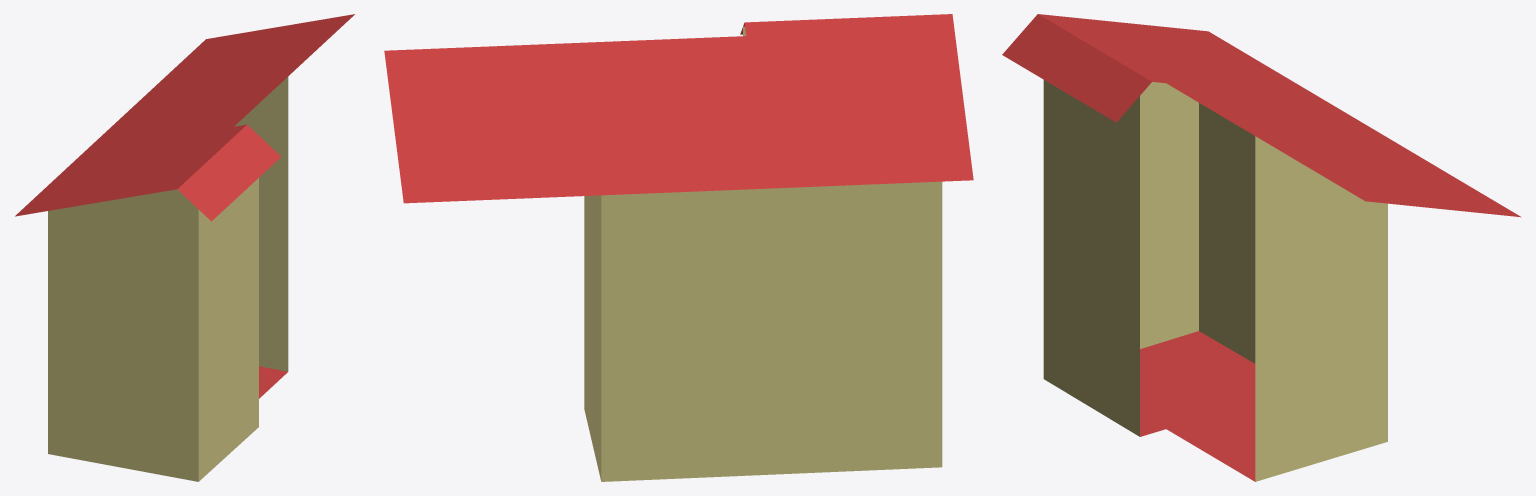
3 renders of one model, left to right at view 1: azimuth 30°, elevation 25°; view 2: azimuth 150°, elevation 25°; view 3: azimuth 270°, elevation 25°, orthographic. The views are drawn at different scales.
Size of the model in its own units: 10.43 by 9.83 by 7.33.
